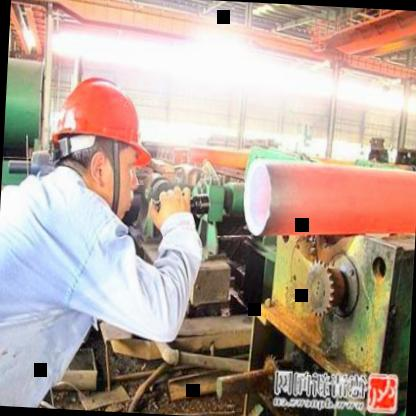helmet: (39, 60, 156, 218)
